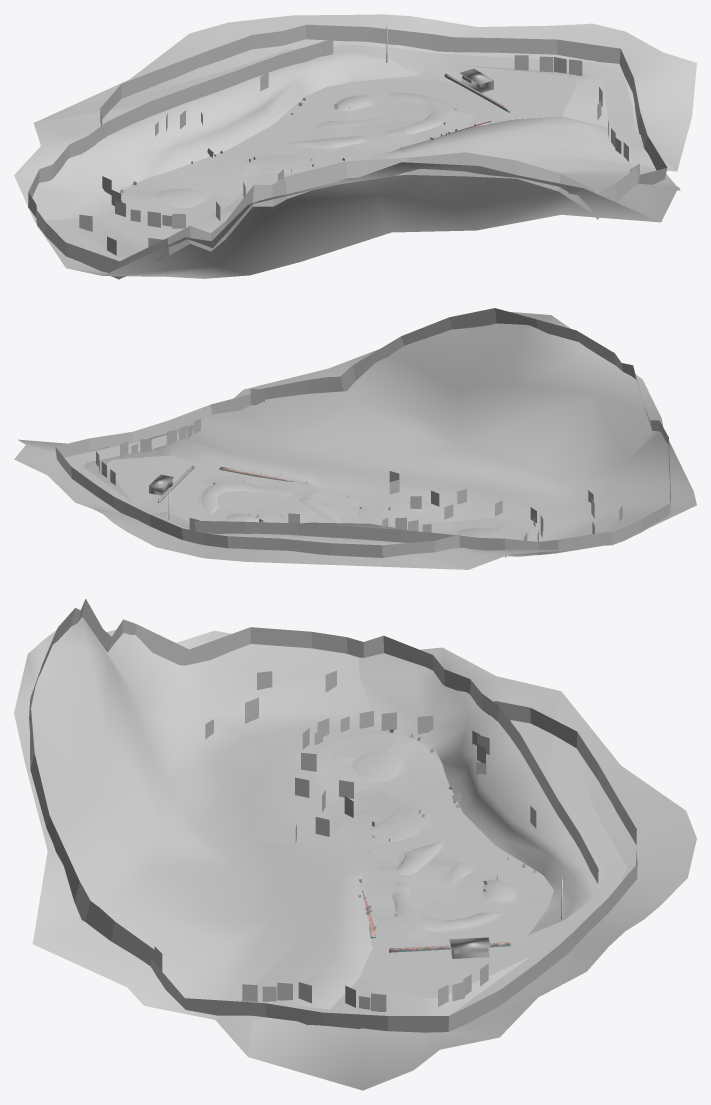
Rendered from ebisu-school.fbx.
3 renders of one model, top to bottom at view 1: azimuth 30°, elevation 25°; view 2: azimuth 150°, elevation 25°; view 3: azimuth 270°, elevation 25°, orthographic. The views are drawn at different scales.
Visible parts, largest first — view 1: GROUND_GRASS_6, GROUND_GRASS_6_002, GROUND_GRASS_6_001, GROUND_GROUND, TRANS_TREE, TRANS_TREE2, SKID0, SKID2, TRANS_TREES, SKID1, GROUND_GRASS_6_003, GROUND_GRASS_1 (+5 smaller); view 2: GROUND_GRASS_6, TRANS_TREE, TRANS_TREE2, GROUND_GROUND, GROUND_GRASS_6_001, SKID2, TRANS_TREES, GROUND_GRASS_6_002, SKID0, GROUND_GRASS_1, SKID1, GROUND_GRASS_6_003 (+3 smaller); view 3: GROUND_GRASS_6, GROUND_GRASS_6_002, GROUND_GRASS_6_001, GROUND_GROUND, TRANS_TREE, TRANS_TREE2, SKID0, SKID2, TRANS_TREES, SKID1, GROUND_GRASS_6_003, GROUND_GRASS_1 (+4 smaller).
Part boxes in pixels (box(x1,y1,x2,y2)): GROUND_GRASS_6: box(34, 116, 680, 278); GROUND_GRASS_6_002: box(14, 52, 418, 220); GROUND_GRASS_6_001: box(66, 14, 696, 171); GROUND_GROUND: box(34, 44, 676, 221); TRANS_TREE: box(28, 42, 638, 279); TRANS_TREE2: box(100, 24, 667, 184); SKID0: box(125, 78, 495, 220); SKID2: box(237, 82, 476, 160); TRANS_TREES: box(79, 39, 639, 255); SKID1: box(134, 128, 280, 216); GROUND_GRASS_6_003: box(458, 65, 609, 127); GROUND_GRASS_1: box(380, 92, 456, 137); GROUND_GRASS_6: box(154, 312, 696, 543); TRANS_TREE: box(194, 308, 670, 555); TRANS_TREE2: box(55, 394, 459, 557); GROUND_GROUND: box(67, 425, 530, 569); GROUND_GRASS_6_001: box(14, 434, 425, 568); SKID2: box(180, 475, 349, 522); TRANS_TREES: box(96, 389, 622, 557); GROUND_GRASS_6_002: box(165, 512, 615, 569); SKID0: box(166, 470, 527, 540); GROUND_GRASS_1: box(201, 482, 292, 513); SKID1: box(407, 516, 518, 539); GROUND_GRASS_6_003: box(83, 449, 170, 503); GROUND_GRASS_6: box(14, 617, 397, 1019); GROUND_GRASS_6_002: box(358, 647, 604, 934); GROUND_GRASS_6_001: box(248, 716, 696, 1090); GROUND_GROUND: box(215, 691, 627, 1056); TRANS_TREE: box(29, 599, 598, 966); TRANS_TREE2: box(150, 701, 637, 1032); SKID0: box(316, 736, 551, 951); SKID2: box(366, 816, 544, 942); TRANS_TREES: box(154, 670, 536, 1011); SKID1: box(327, 741, 487, 845); GROUND_GRASS_6_003: box(330, 957, 529, 1015); GROUND_GRASS_1: box(392, 882, 505, 930).
Bounding box in the file's own units: 282 × 64.76 × 203.
